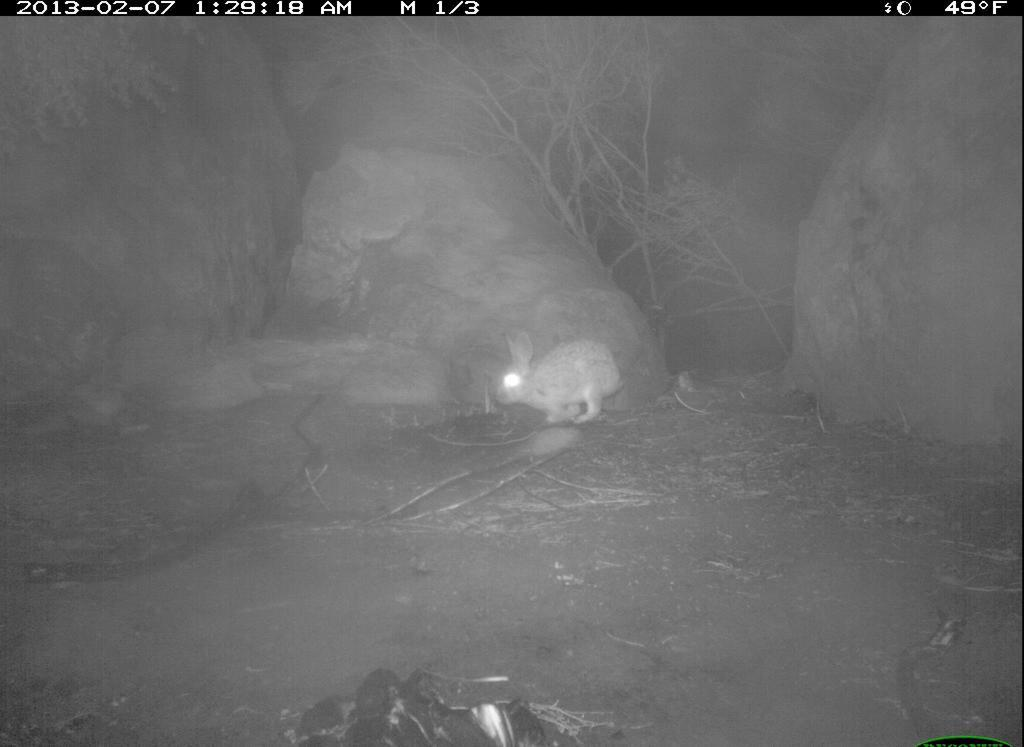rabbit: (491, 323, 626, 433)
